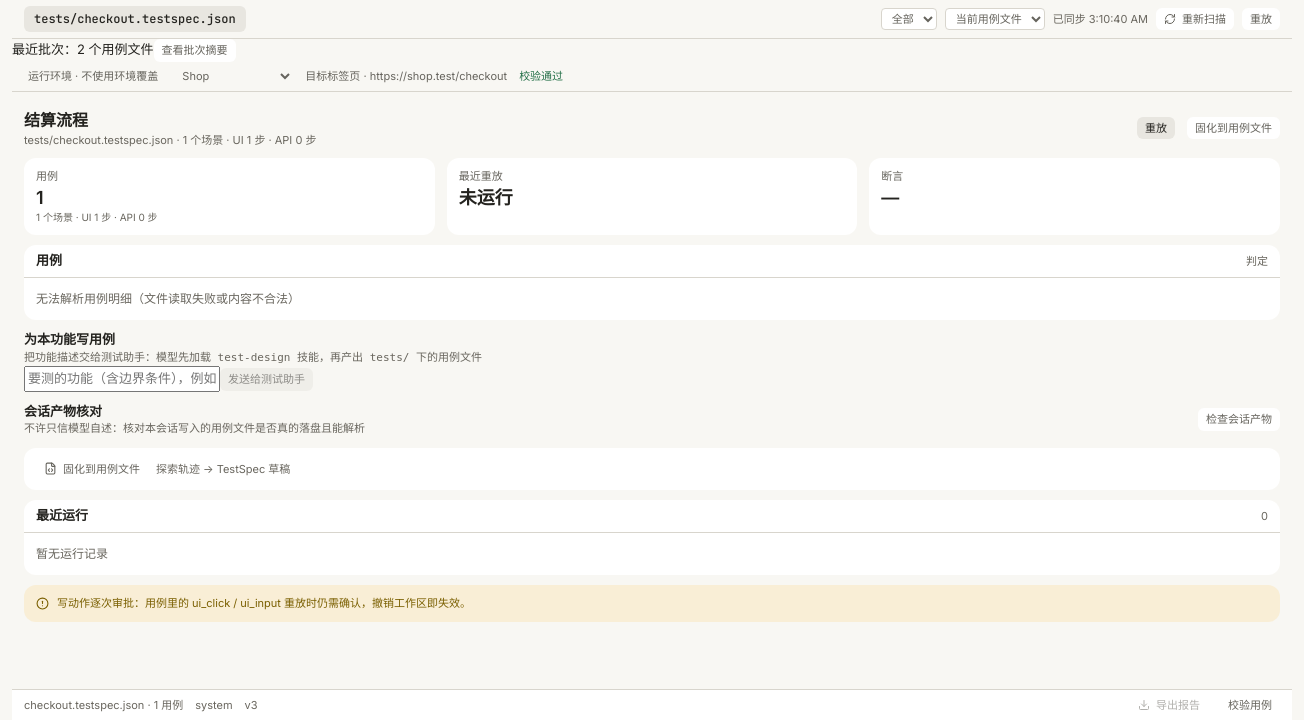
Scenario: TestingView run flow › reloads the latest batch summary from batch_id after a page reload
The image size is (1304, 720).
Check: the text "最近批次：2 个用例文件" is shown, box x1=12 y1=41 x2=154 y2=57
Click the button "查看批次摘要".
click(195, 50)  # box x1=154 y1=39 x2=236 y2=62
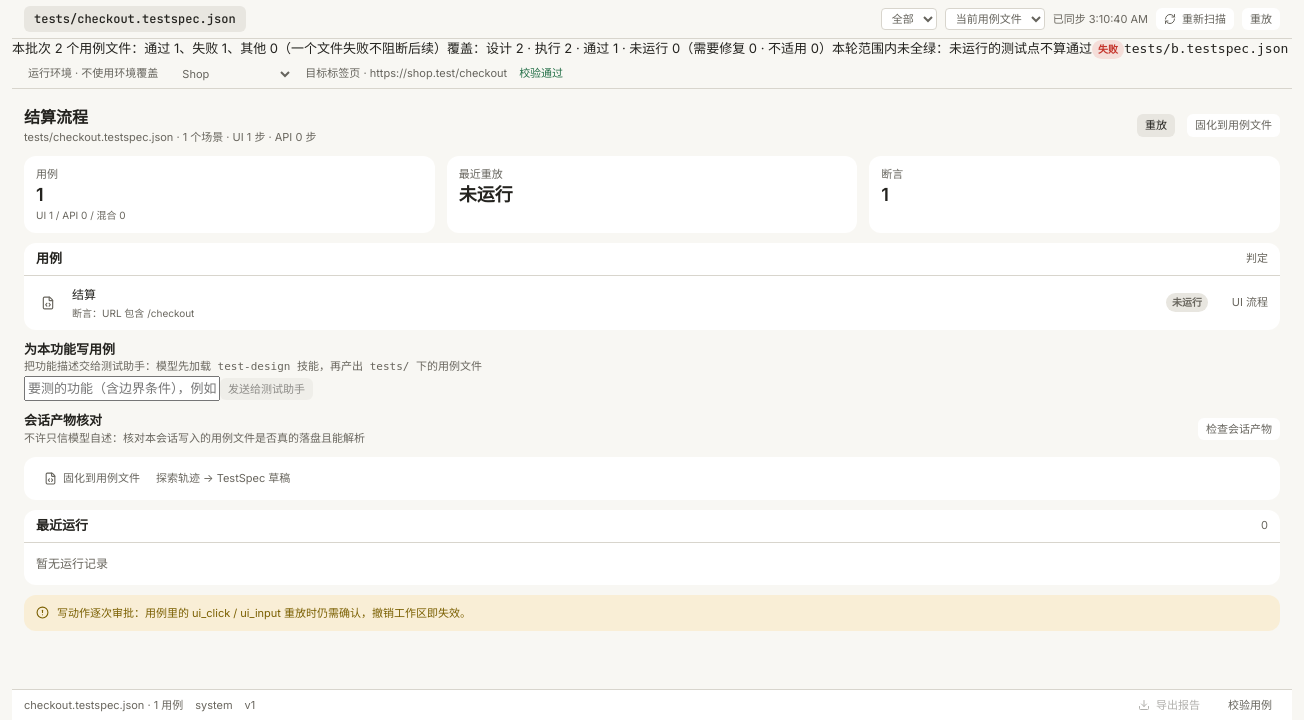
Check: the text "本批次 2 个用例文件：通过 1、失败 1、其他 0（一个文件失败不阻断后续）" is shown, box x1=12 y1=40 x2=447 y2=56
Check: the text with test id "testing-coverage" reads "覆盖：设计 2 · 执行 2 · 通过 1 · 未运行 0（需要修复 0 · 不适用 0）", box x1=447 y1=40 x2=832 y2=56
